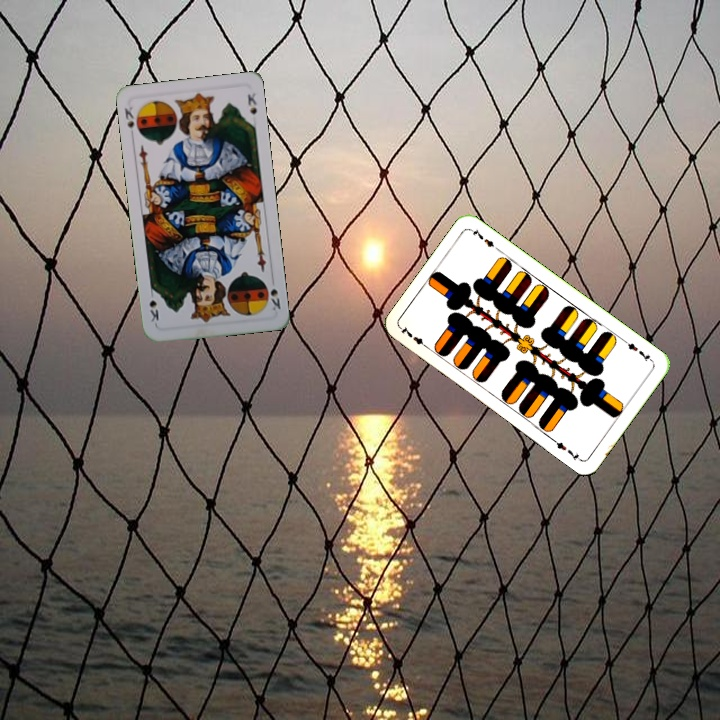E7: (397, 322, 432, 352), (620, 336, 655, 365)
SK: (261, 277, 283, 313), (120, 102, 137, 140)
